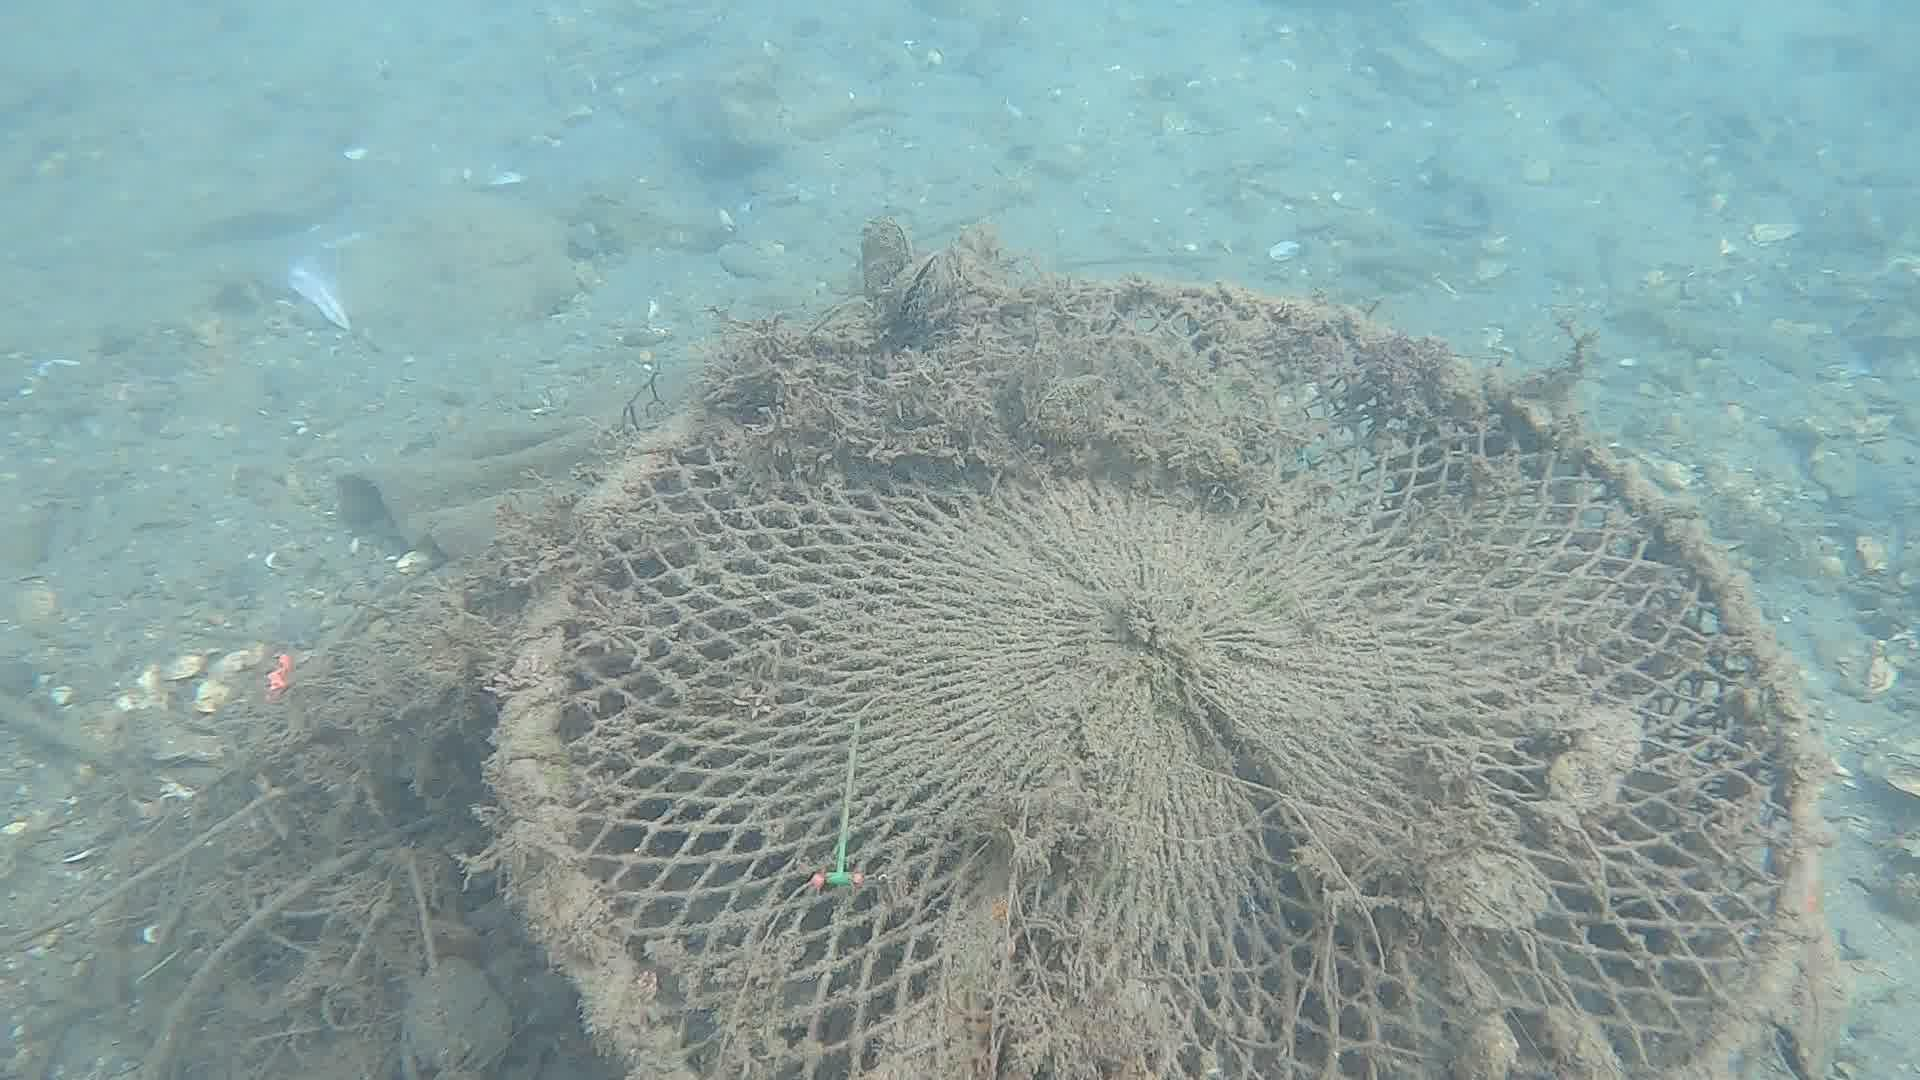circular fish trap: (492, 280, 1822, 1080)
